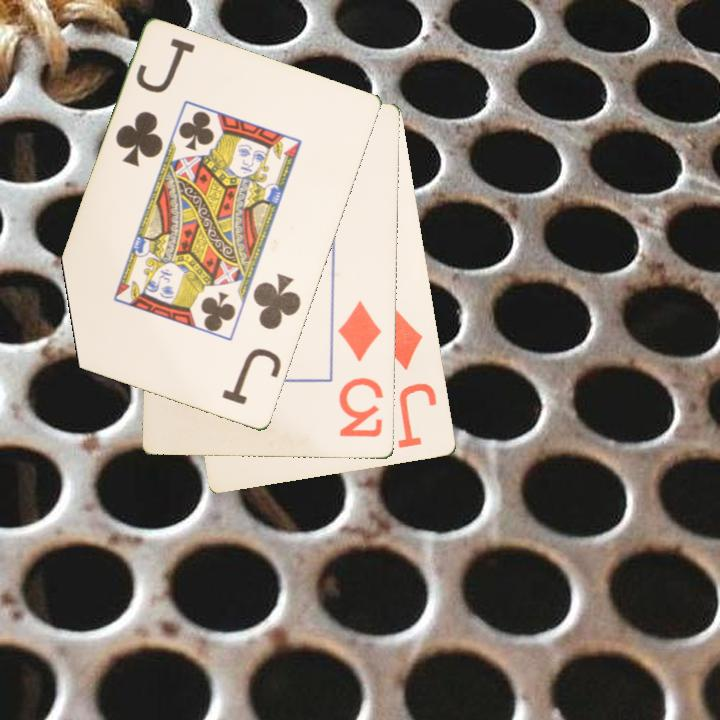3d: (335, 298, 386, 441)
Jc: (218, 271, 305, 409), (112, 34, 199, 170)
Jd: (377, 307, 441, 452)
